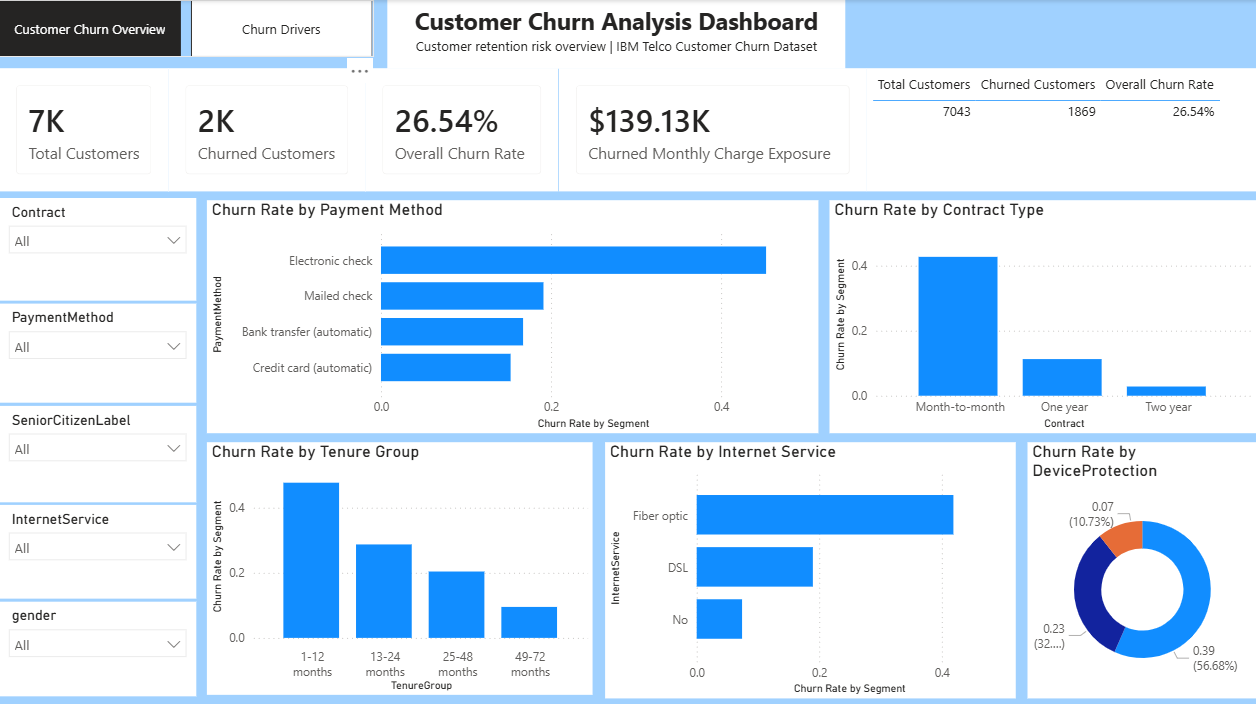

This screenshot's page, from the dashboard's own definition file:
{"tool":"powerbi","page":{"name":"Customer Churn Overview","canvas":[1280,720],"ordinal":0},"visuals":[{"type":"tableEx","fields":{"Values":["Churn Measures.Total Customers","Churn Measures.Churned Customers","Churn Measures.Overall Churn Rate"]},"box":[883.8,69.4,396.5,125.5],"z":0},{"type":"textbox","box":[395.7,0,466.7,69.8],"z":1000},{"type":"cardVisual","fields":{"Data":["Churn Measures.Total Customers"]},"box":[0,69.8,172.9,125.3],"z":2000},{"type":"cardVisual","fields":{"Data":["Churn Measures.Churned Customers"]},"box":[172.9,69.8,200.6,125.3],"z":3000},{"type":"cardVisual","fields":{"Data":["Churn Measures.Overall Churn Rate"]},"box":[373.6,69.8,196.2,125.3],"z":4000},{"type":"cardVisual","fields":{"Data":["Churn Measures.Churned Monthly Charge Exposure"]},"box":[569.8,69.8,313.7,125.3],"z":5000},{"type":"clusteredColumnChart","title":"Churn Rate by Contract Type","fields":{"Category":["Customer Churn.Contract"],"Y":["Churn Measures.Churn Rate by Segment"]},"box":[845.7,203.9,434.6,237.5],"z":6000},{"type":"clusteredColumnChart","title":"Churn Rate by Tenure Group","fields":{"Category":["Customer Churn.TenureGroup"],"Y":["Churn Measures.Churn Rate by Segment"]},"box":[211.7,450.3,393.2,257.6],"z":7000},{"type":"barChart","title":"Churn Rate by Internet Service","fields":{"Category":["Customer Churn.InternetService"],"Y":["Churn Measures.Churn Rate by Segment"]},"box":[617.2,450.3,417.8,261],"z":8000},{"type":"barChart","title":"Churn Rate by Payment Method","fields":{"Category":["Customer Churn.PaymentMethod"],"Y":["Churn Measures.Churn Rate by Segment"]},"box":[211.7,203.9,622.8,237.5],"z":9000},{"type":"slicer","fields":{"Values":["Customer Churn.gender"]},"box":[0,612.7,200.5,96.3],"z":10000},{"type":"slicer","fields":{"Values":["Customer Churn.SeniorCitizenLabel"]},"box":[0,413.3,200.5,98.6],"z":11000},{"type":"slicer","fields":{"Values":["Customer Churn.Contract"]},"box":[0,201.6,200.5,104.2],"z":12000},{"type":"slicer","fields":{"Values":["Customer Churn.InternetService"]},"box":[0,514.1,200.5,95.2],"z":13000},{"type":"slicer","fields":{"Values":["Customer Churn.PaymentMethod"]},"box":[0,309.2,200.5,100.8],"z":14000},{"type":"donutChart","title":"Churn Rate by DeviceProtection","fields":{"Y":["Churn Measures.Churn Rate by Segment"],"Category":["Customer Churn.DeviceProtection"]},"box":[1047.3,450.3,233,261],"z":15000},{"type":"pageNavigator","box":[0,0,382,58.2],"z":15001}]}

Visuals, with their boxes on the page's 1280x720 design canvas (x1, y1, x2, y2). These are canvas units, not pixel positions in the 1256x704 screenshot, which may show the page scaled, cropped or inside an application window:
tableEx - Churn Measures.Total Customers x Churn Measures.Churned Customers: bbox(884, 69, 1280, 195)
textbox: bbox(396, 0, 862, 70)
cardVisual - Churn Measures.Total Customers: bbox(0, 70, 173, 195)
cardVisual - Churn Measures.Churned Customers: bbox(173, 70, 374, 195)
cardVisual - Churn Measures.Overall Churn Rate: bbox(374, 70, 570, 195)
cardVisual - Churn Measures.Churned Monthly Charge Exposure: bbox(570, 70, 884, 195)
"Churn Rate by Contract Type" clusteredColumnChart: bbox(846, 204, 1280, 441)
"Churn Rate by Tenure Group" clusteredColumnChart: bbox(212, 450, 605, 708)
"Churn Rate by Internet Service" barChart: bbox(617, 450, 1035, 711)
"Churn Rate by Payment Method" barChart: bbox(212, 204, 834, 441)
slicer - Customer Churn.gender: bbox(0, 613, 200, 709)
slicer - Customer Churn.SeniorCitizenLabel: bbox(0, 413, 200, 512)
slicer - Customer Churn.Contract: bbox(0, 202, 200, 306)
slicer - Customer Churn.InternetService: bbox(0, 514, 200, 609)
slicer - Customer Churn.PaymentMethod: bbox(0, 309, 200, 410)
"Churn Rate by DeviceProtection" donutChart: bbox(1047, 450, 1280, 711)
pageNavigator: bbox(0, 0, 382, 58)
